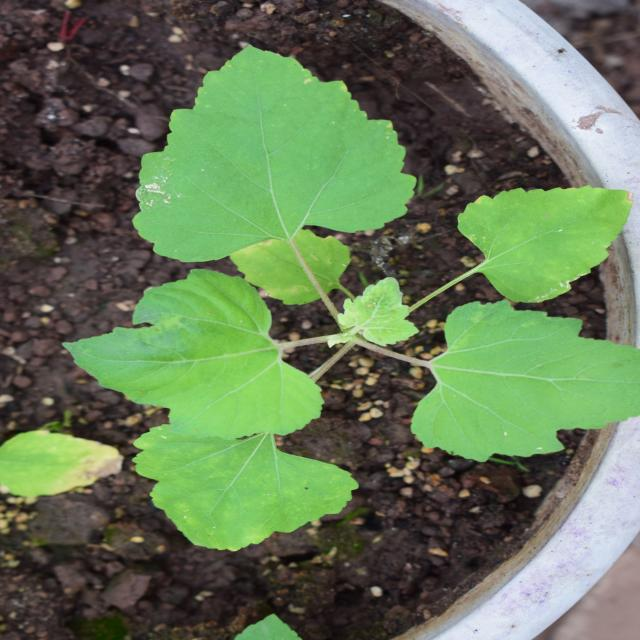cocklebur: (82, 90, 590, 620)
